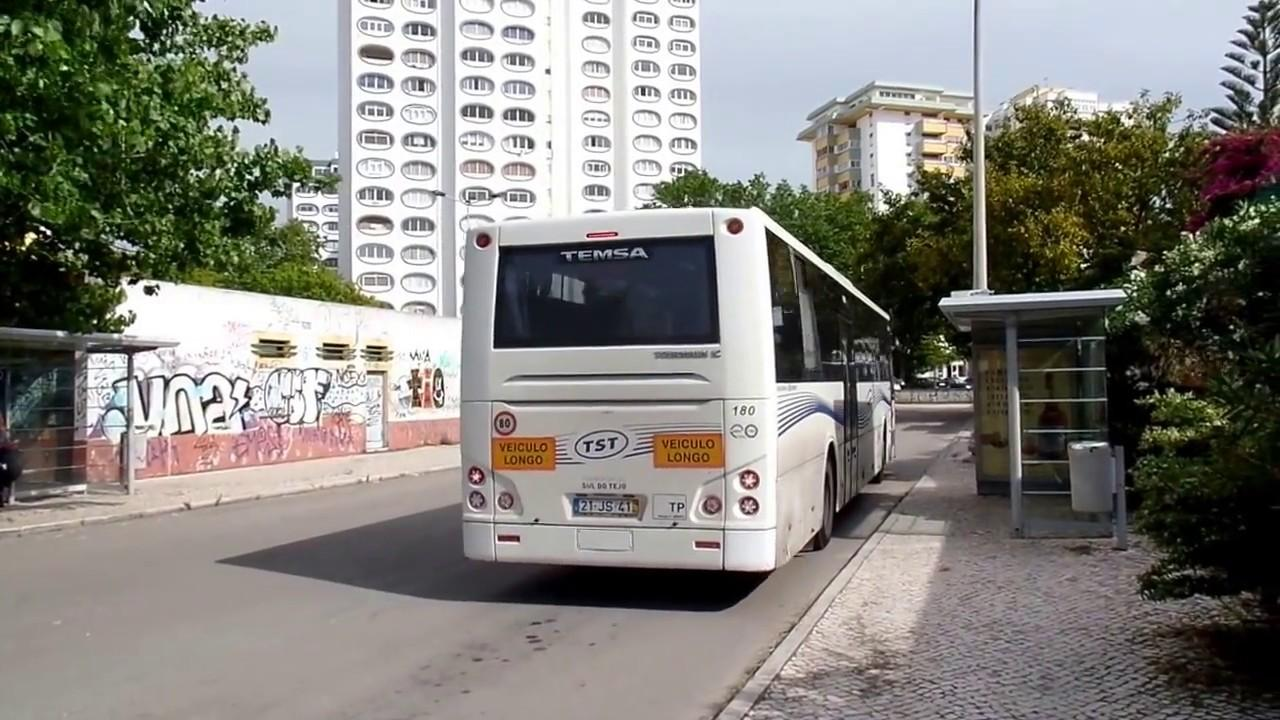vehicle: (459, 207, 911, 572)
